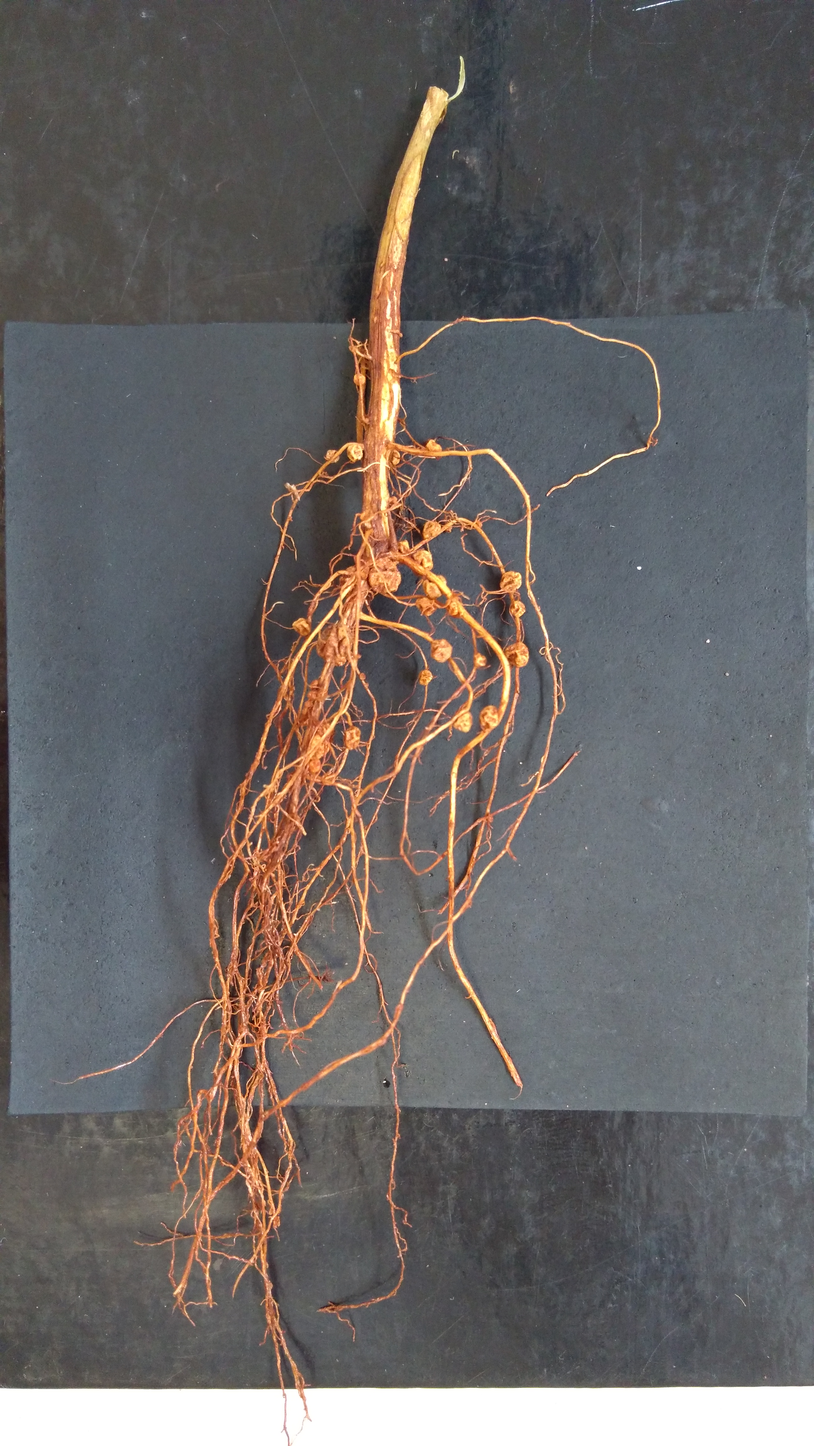nodule: (315, 622, 354, 667), (368, 556, 403, 595), (335, 564, 362, 598), (503, 640, 530, 669), (429, 637, 453, 664), (478, 703, 500, 730), (411, 549, 435, 571), (452, 710, 474, 734), (498, 570, 522, 592), (342, 724, 361, 751), (421, 577, 443, 600), (414, 596, 438, 617), (291, 617, 311, 637), (421, 520, 442, 539), (345, 444, 363, 463), (509, 599, 526, 619), (425, 438, 443, 454), (473, 651, 488, 670), (418, 668, 433, 686), (445, 600, 460, 617), (308, 757, 322, 774), (325, 449, 340, 464), (397, 539, 410, 554), (307, 678, 320, 692), (391, 448, 401, 466), (310, 734, 321, 750), (353, 372, 366, 385), (314, 744, 325, 758), (303, 699, 315, 709), (388, 496, 397, 508), (358, 672, 367, 681)
